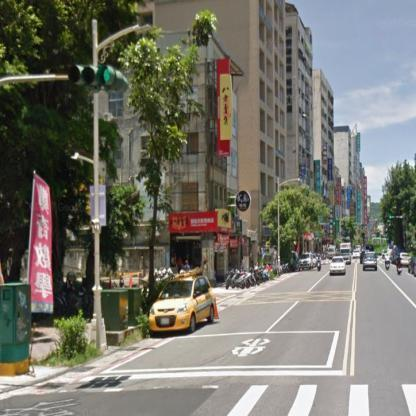Green Light: (70, 64, 119, 89)
